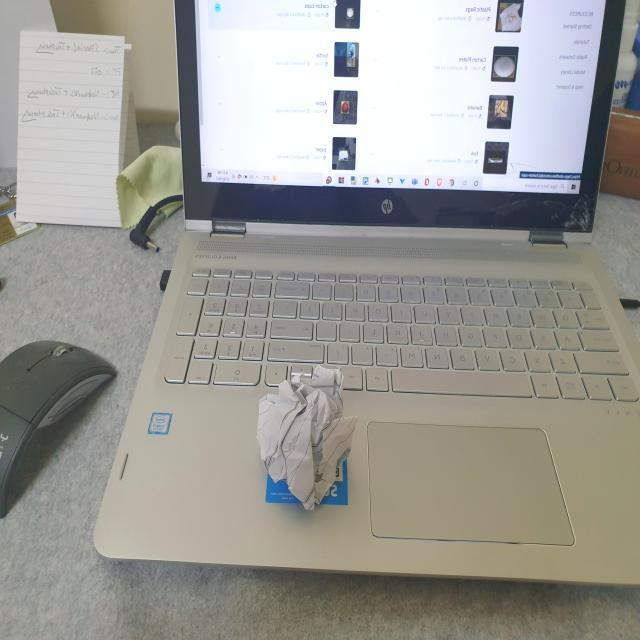Paper: (246, 360, 364, 510)
